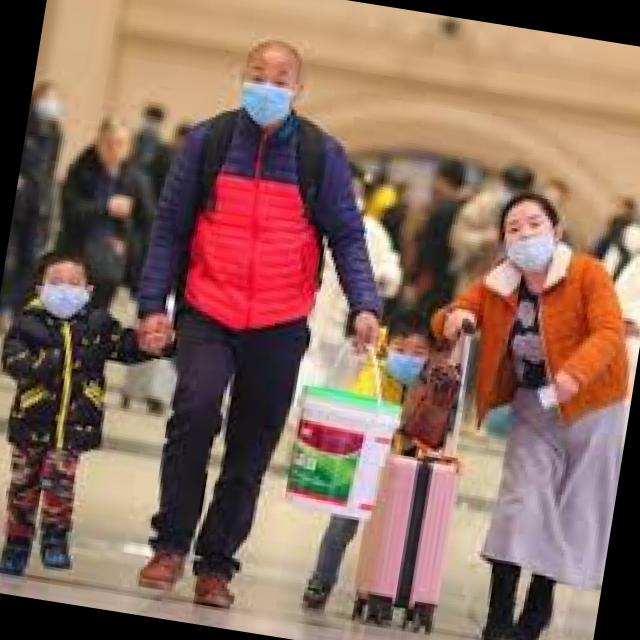Jacket: (116, 72, 395, 384), (416, 223, 640, 461), (0, 281, 156, 472), (44, 150, 164, 296)
